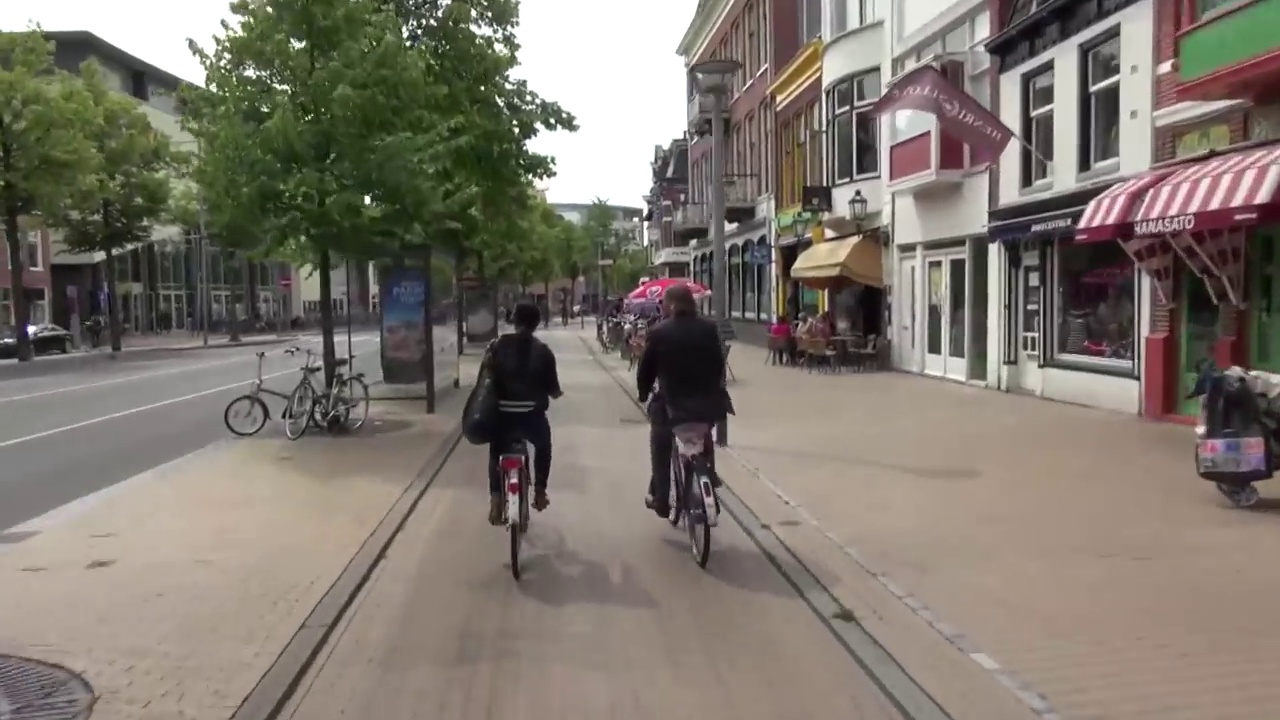cyclist_back: (646, 275, 761, 583), (468, 294, 568, 590)
